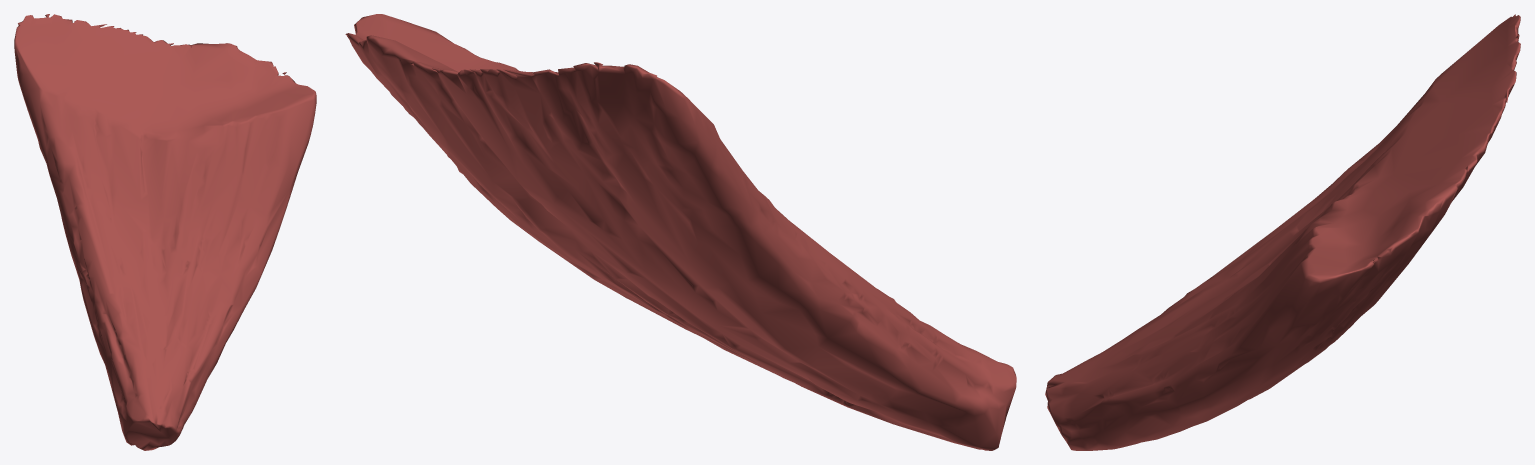
File: FMA32533.glb
3 renders of one model, left to right at view 1: azimuth 30°, elevation 25°; view 2: azimuth 150°, elevation 25°; view 3: azimuth 270°, elevation 25°, orthographic. The views are drawn at different scales.
Visible parts, largest first — view 1: FMA32533; view 2: FMA32533; view 3: FMA32533.
Boxes of the visible parts, bbox=[...] form: FMA32533: bbox=[14, 14, 316, 450]; FMA32533: bbox=[345, 14, 1016, 450]; FMA32533: bbox=[1045, 14, 1520, 450].
Bounding box in the file's own units: 0.0228 × 0.0253 × 0.0245.
